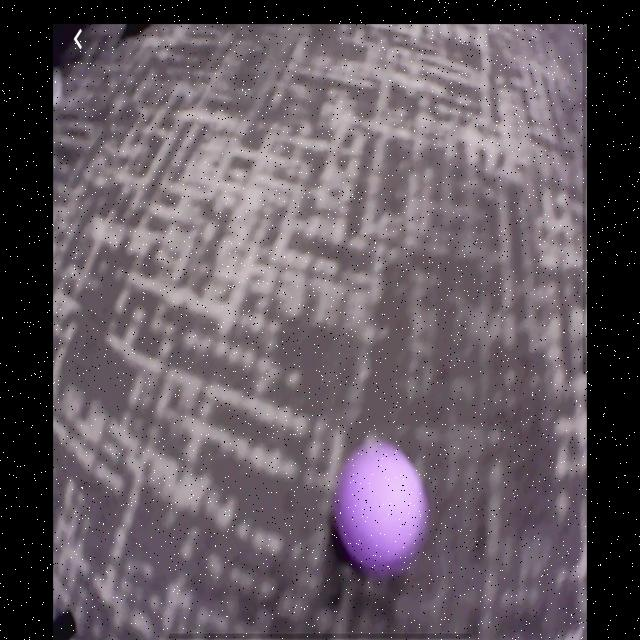ball: (333, 438, 430, 578)
